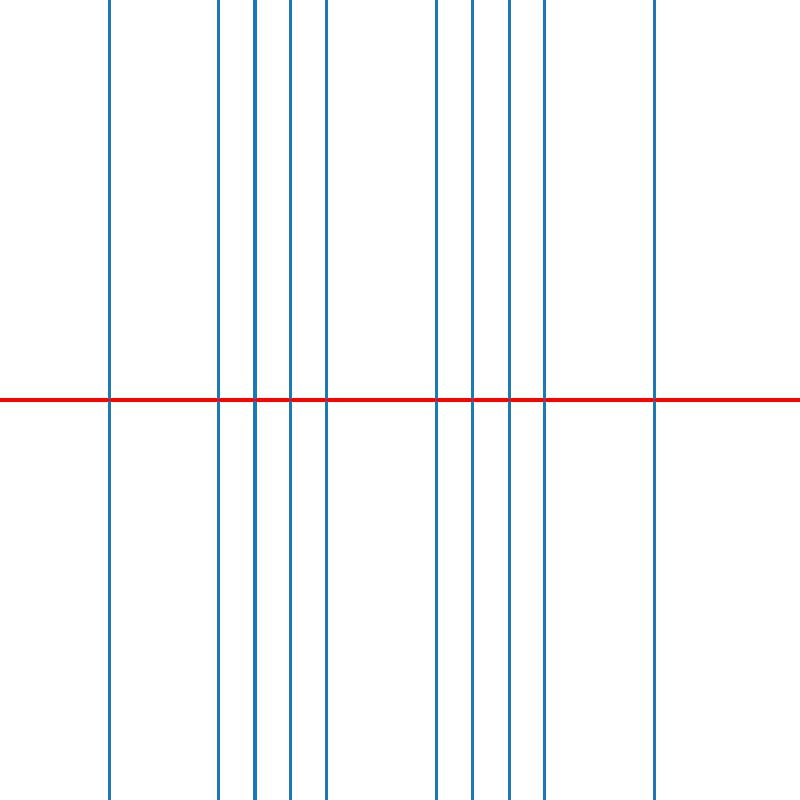root: (432, 396, 440, 404), (250, 396, 258, 404), (541, 396, 549, 404), (650, 396, 658, 404), (323, 396, 330, 404), (287, 396, 294, 404), (214, 396, 221, 404), (105, 396, 112, 404), (469, 396, 476, 404), (505, 396, 512, 404)
